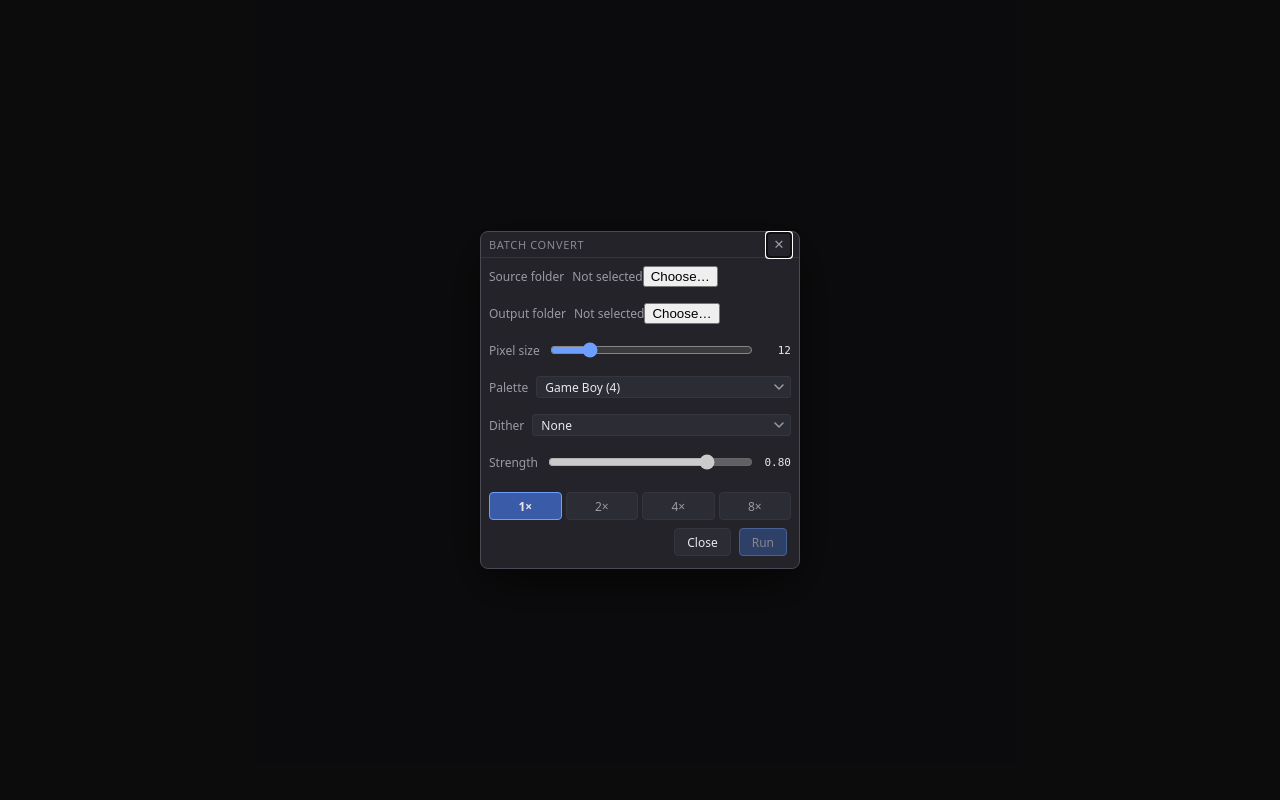
Test: folder selection › disables Run until both a source and an output folder are chosen
This screenshot has width=1280, height=800.
Check: the button "Run" is disabled, box top-left (739, 528), bottom-right (787, 556)
Click the button "Choose…" in the row of "Source folder". click: (680, 276)
box: top-left (643, 266), bottom-right (718, 287)
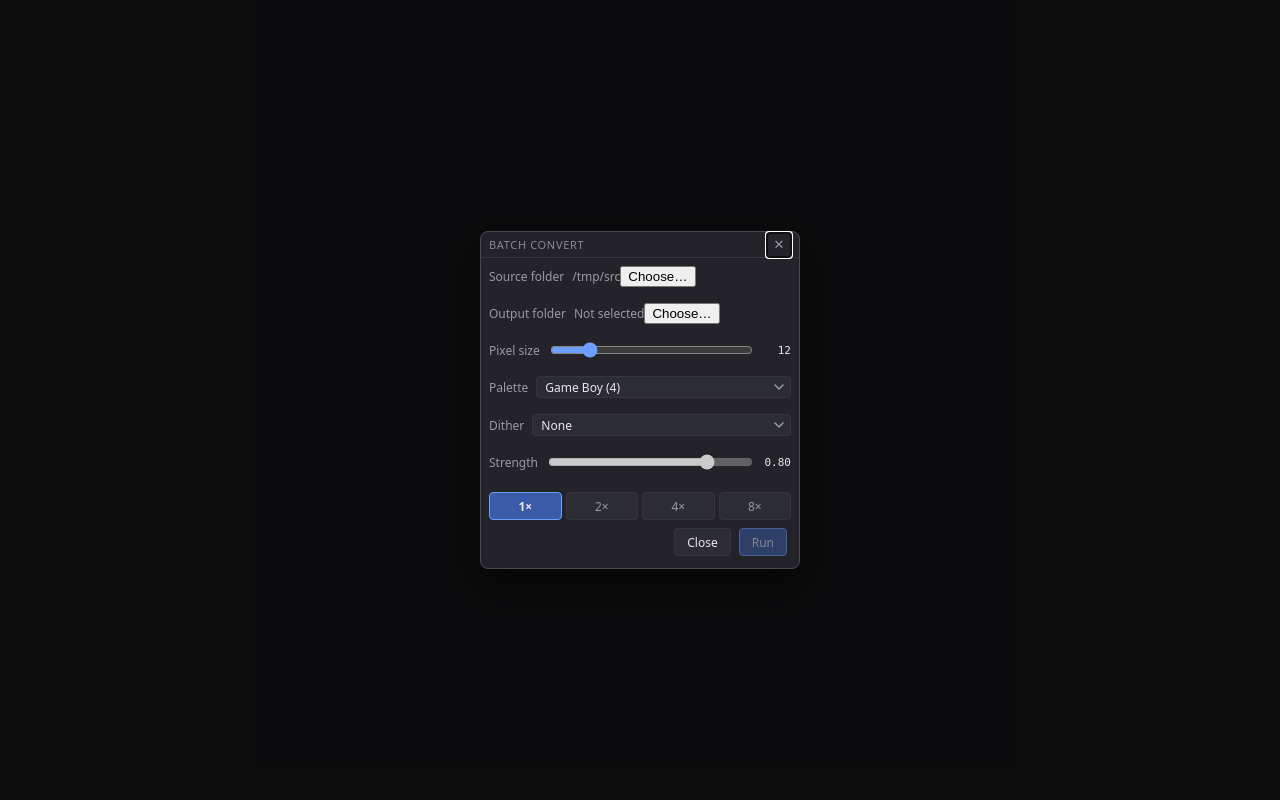
Check: the button "Run" is disabled, box top-left (739, 528), bottom-right (787, 556)
Click the button "Choose…" next to "Not selected". click: (682, 314)
box: top-left (644, 303), bottom-right (720, 324)
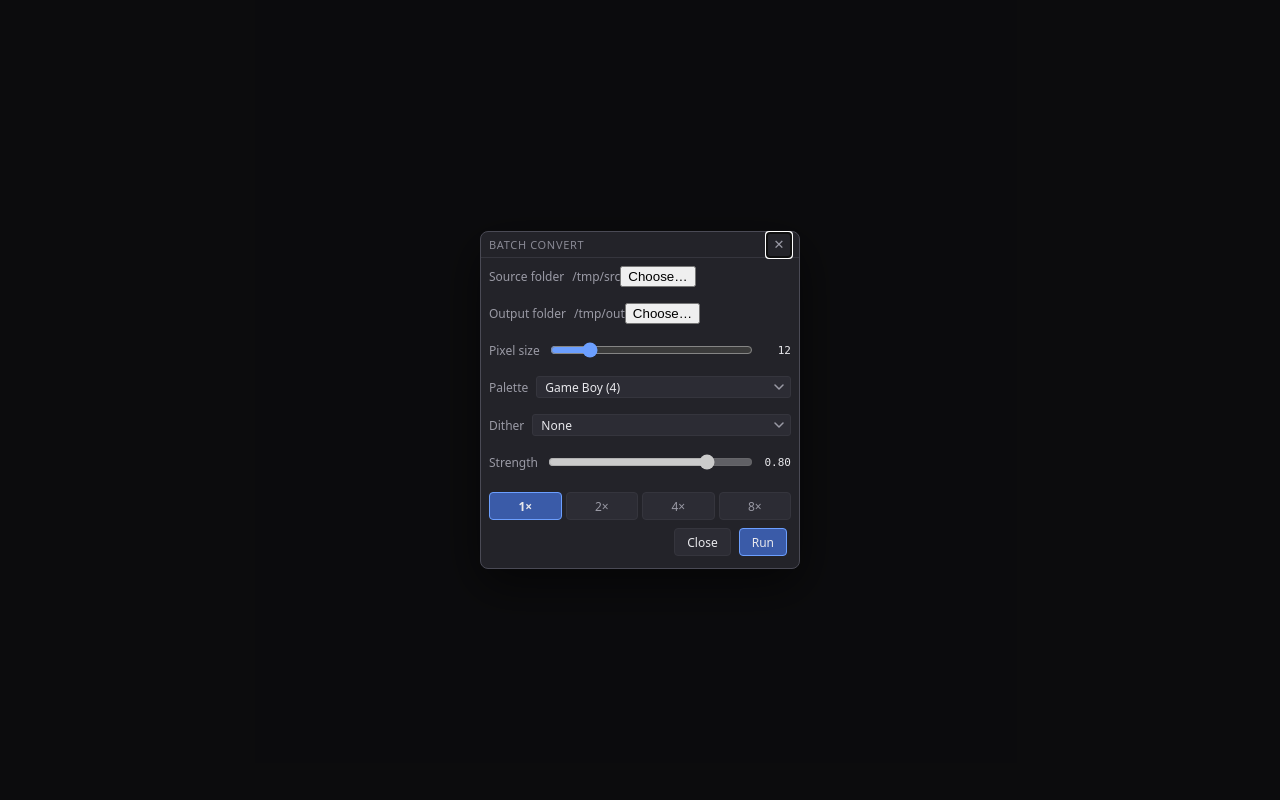
Check: the button "Run" is enabled, box top-left (739, 528), bottom-right (787, 556)
